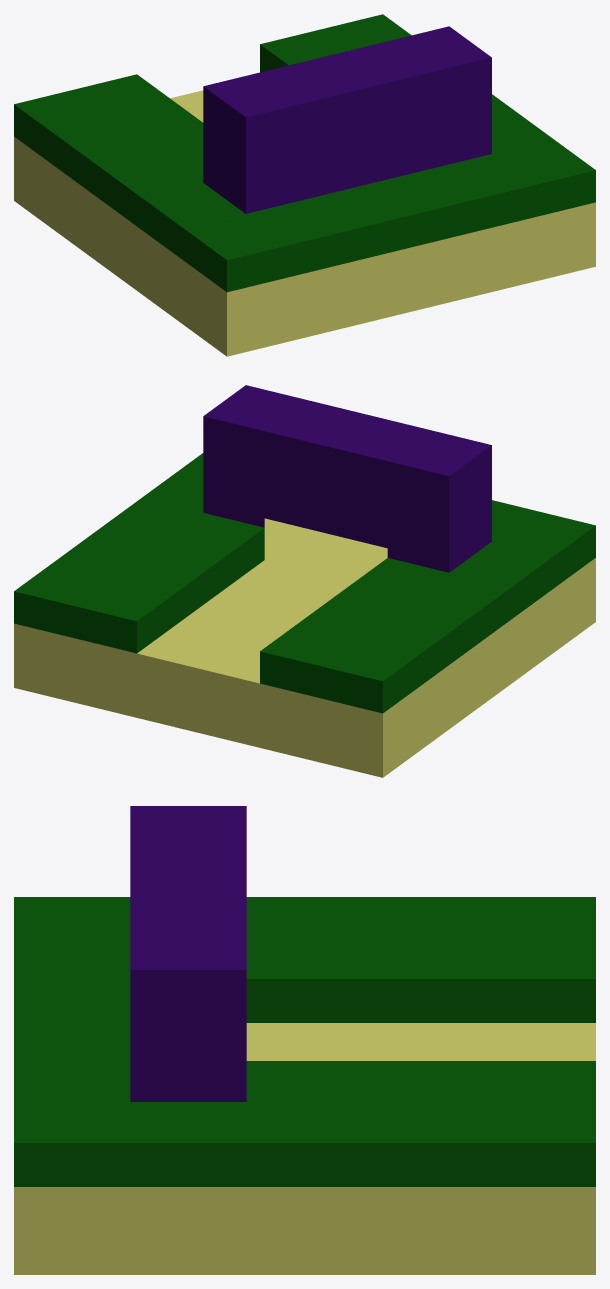
Rendered from Portal.fbx.
3 renders of one model, top to bottom at view 1: azimuth 30°, elevation 25°; view 2: azimuth 150°, elevation 25°; view 3: azimuth 270°, elevation 25°, orthographic. The views are drawn at different scales.
Visible parts, largest first — view 1: Cube; view 2: Cube; view 3: Cube.
Part boxes in pixels (x1,y1,x2,y2): Cube: [14, 14, 595, 356]; Cube: [14, 385, 595, 777]; Cube: [14, 806, 595, 1274].
Size of the model in its own units: 1200 by 600 by 1200.
